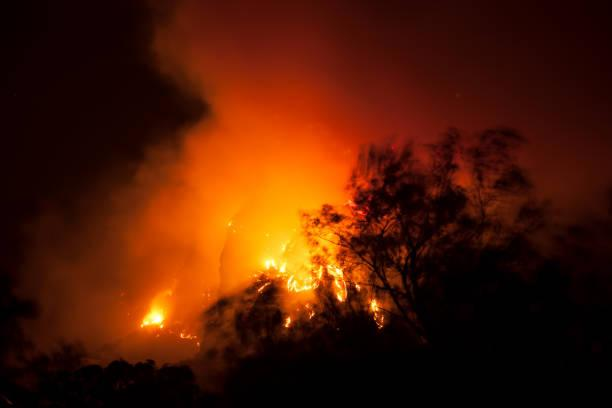Fire: (141, 302, 166, 323), (265, 249, 287, 270), (295, 281, 314, 294)
